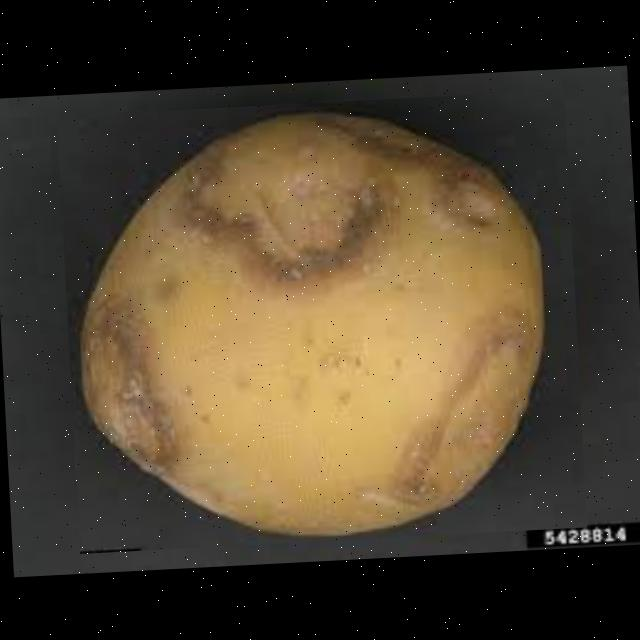Diseased-fungal potato: (56, 89, 586, 554)
